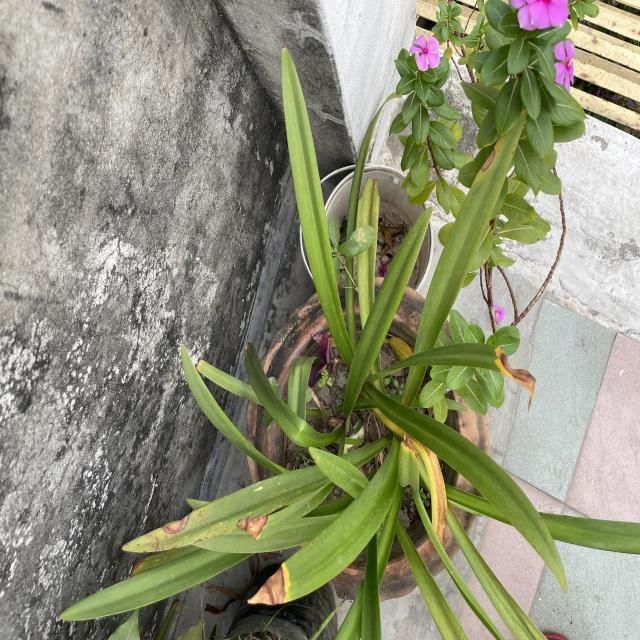Breeding Place: (253, 294, 487, 594), (319, 165, 441, 290)
